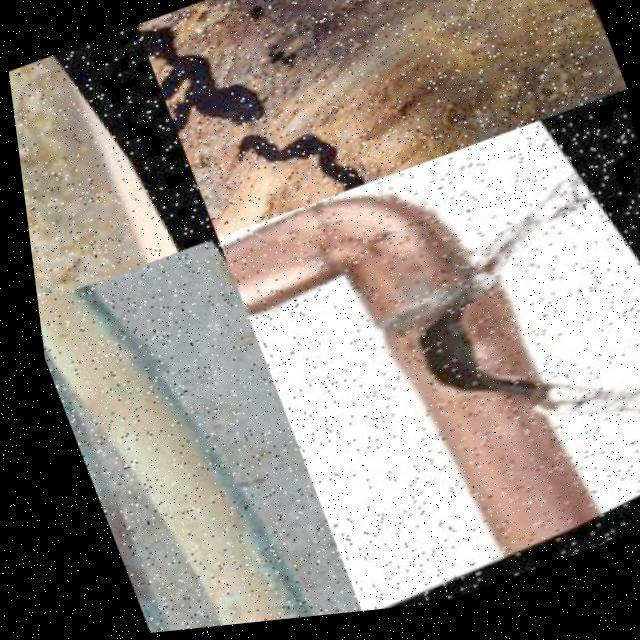crack: (8, 74, 42, 224)
hole: (147, 19, 327, 178), (216, 89, 417, 230), (134, 1, 246, 84), (274, 40, 334, 88), (249, 1, 301, 40)
rupture: (377, 275, 559, 452)
